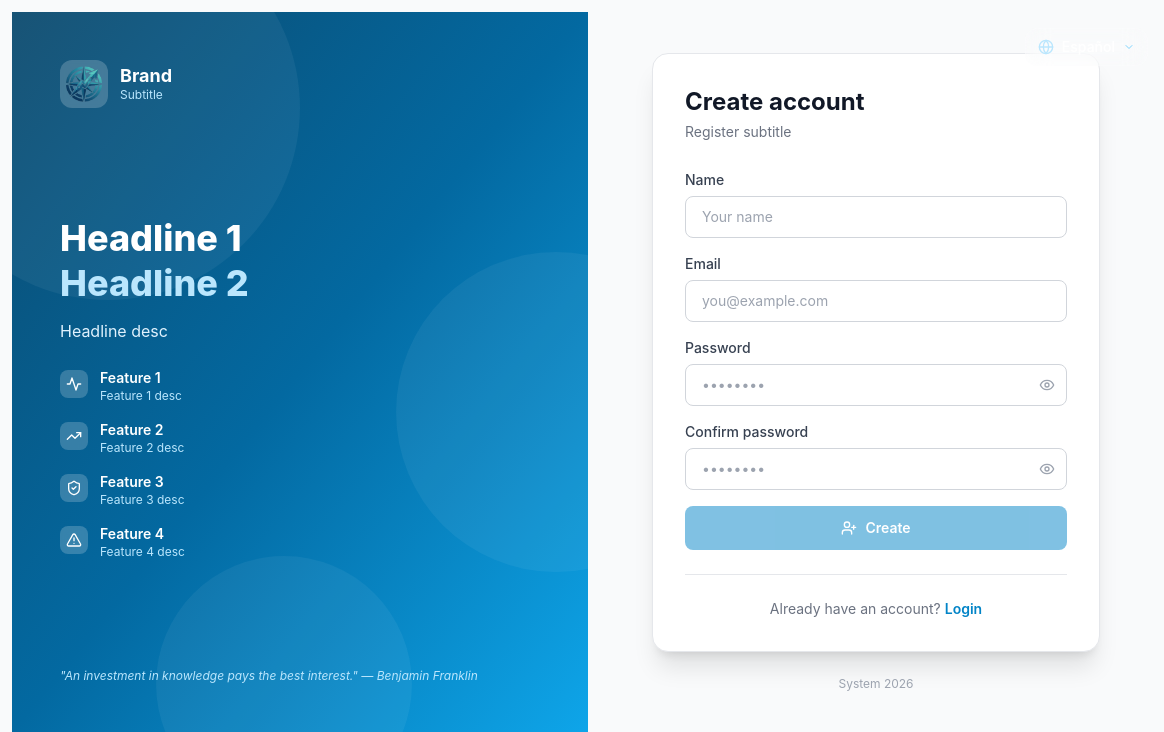
it: RegisterPage › navigates to verify email after successful registration
Type "Alice" into the field labelled "Name". click: [876, 216]
box: left=685, top=196, right=1067, bottom=238
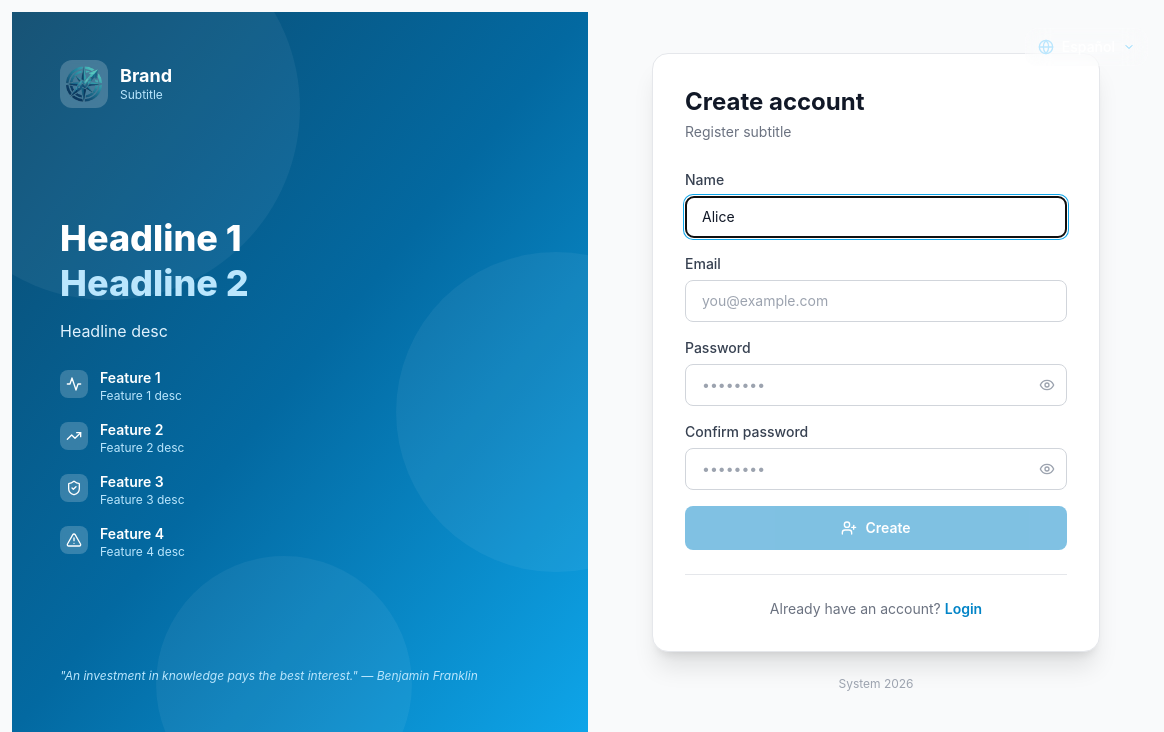
Type "alice@example.com" into the field labelled "Email". click: [876, 300]
box: left=685, top=280, right=1067, bottom=322
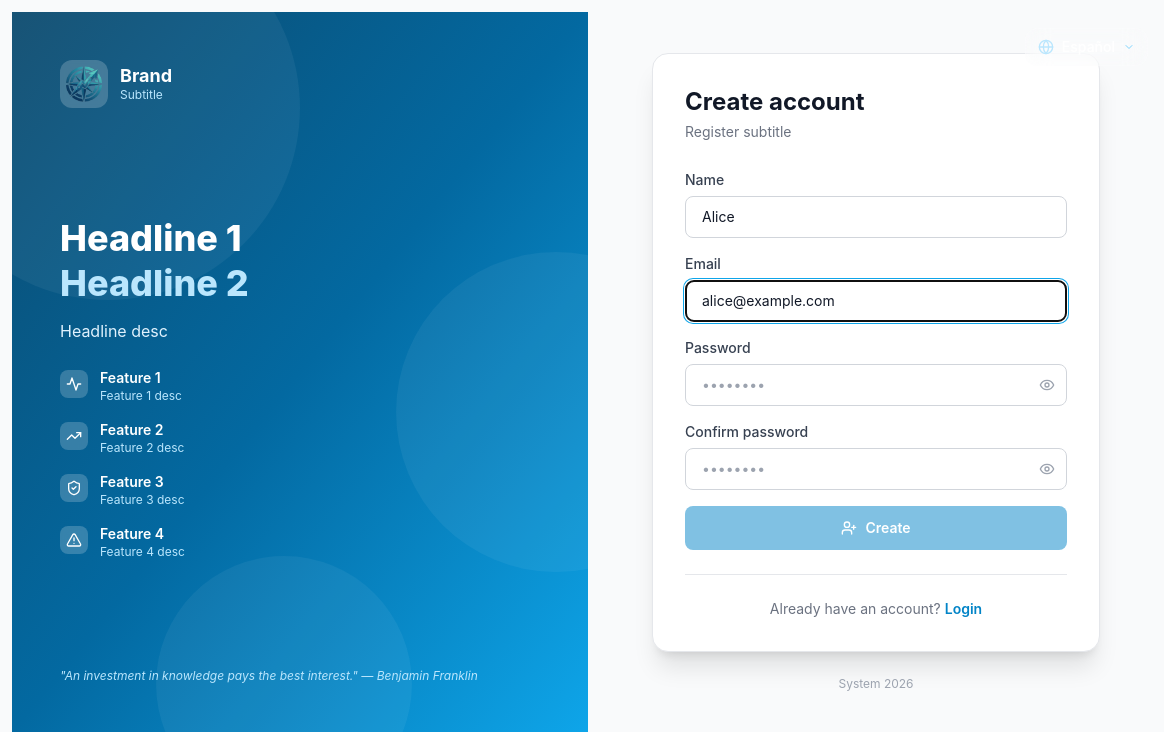
Type "Password1!" into the password field labelled "Password". click: [876, 384]
box: left=685, top=364, right=1067, bottom=406
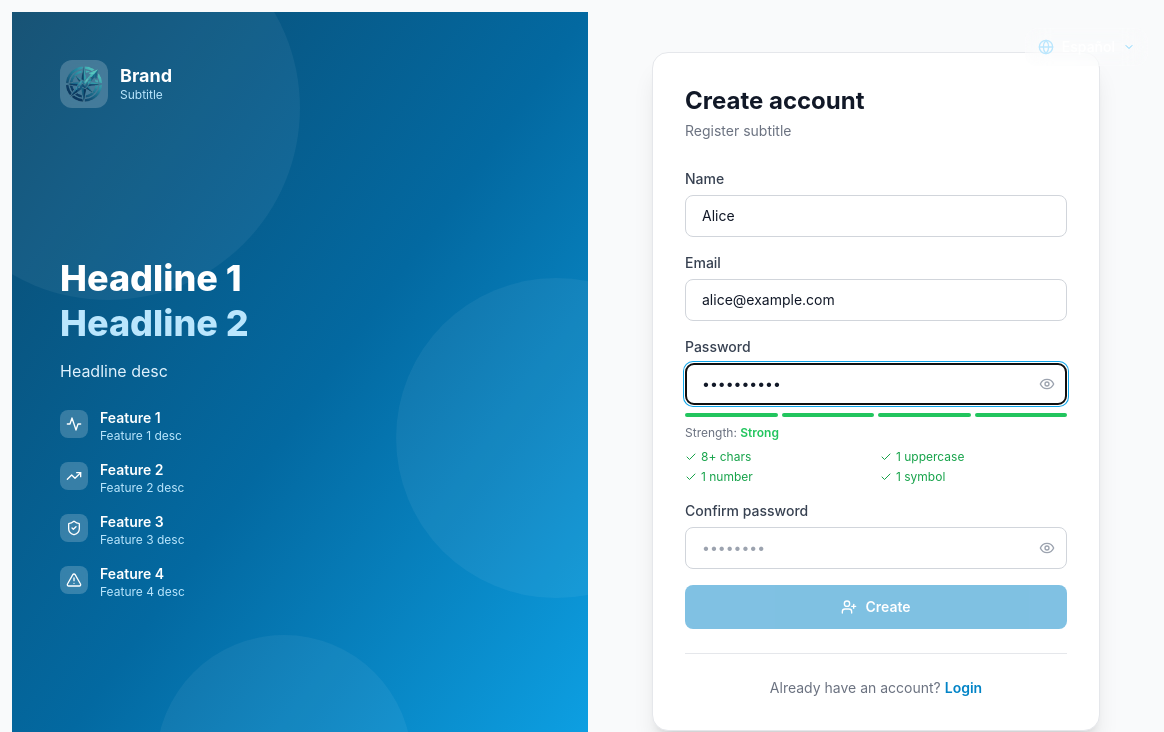
Type "Password1!" into the password field labelled "Confirm password". click: [876, 548]
box: left=685, top=527, right=1067, bottom=569
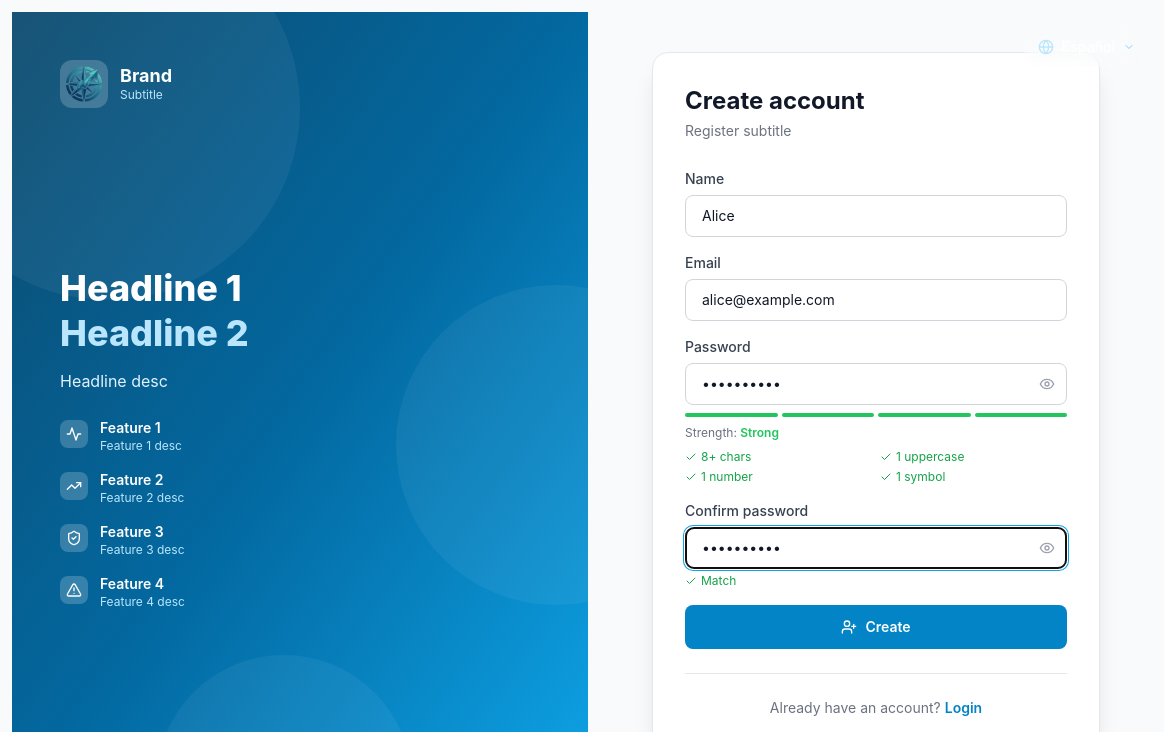
Click the button "Create". click: [876, 627]
box: left=685, top=605, right=1067, bottom=649
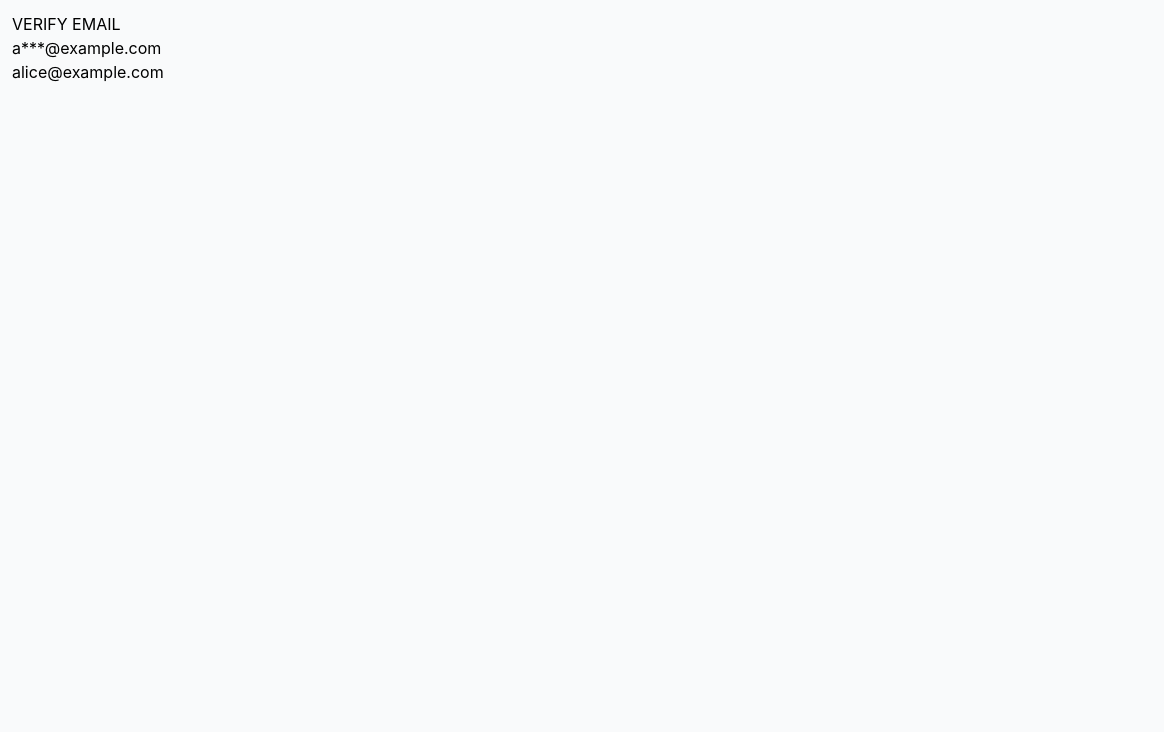
Result: the text "VERIFY EMAIL" is shown at left=12, top=14, right=120, bottom=34
Result: the text with test id "masked" reads "a***@example.com" at left=12, top=38, right=161, bottom=58
Result: the text with test id "email" reads "alice@example.com" at left=12, top=62, right=164, bottom=82
